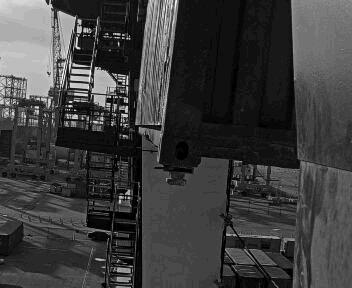twist_lock_1: (156, 160, 196, 192)
